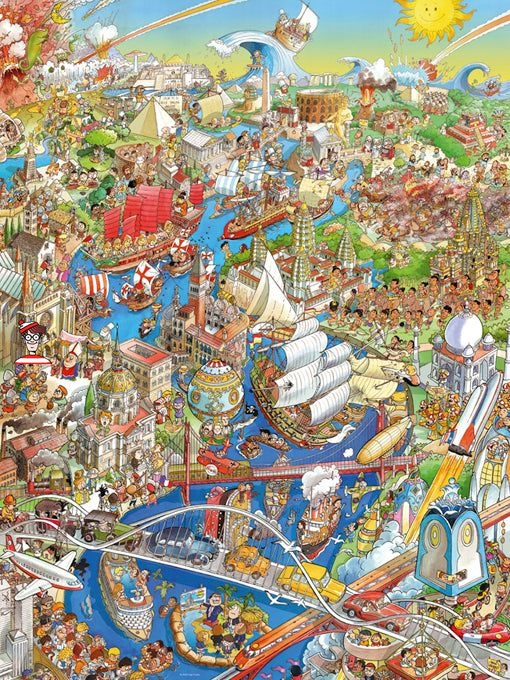waldo: (13, 319, 52, 364)
